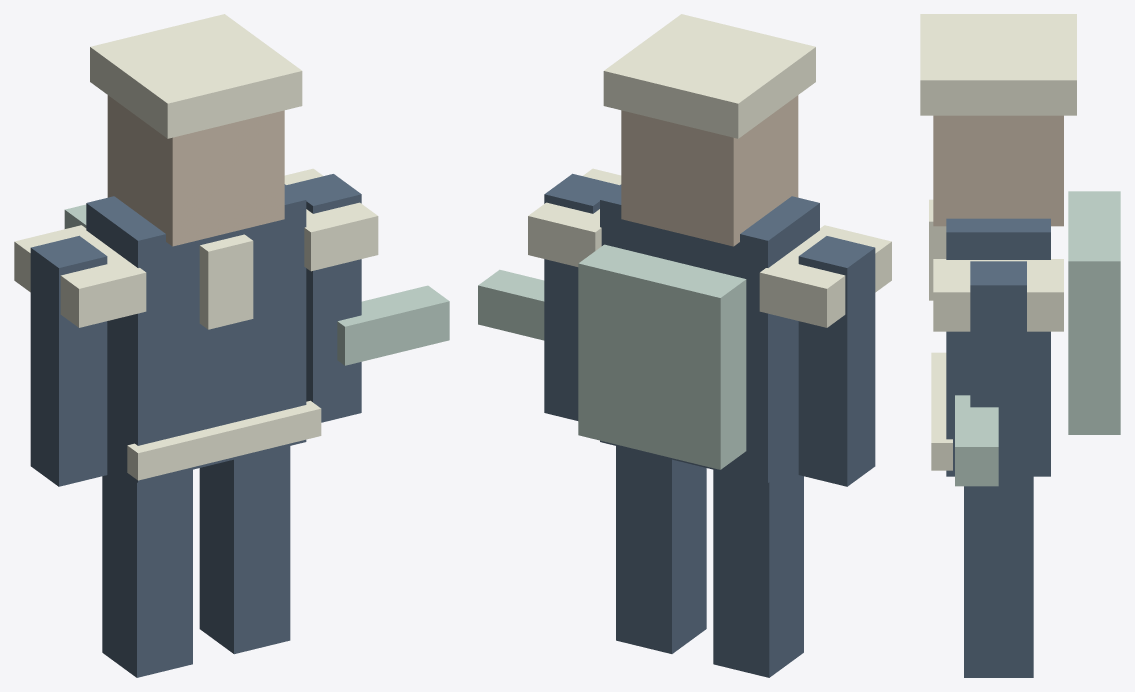
The model's file is 14_sable_latchward_engineer_at_surface.glb.
3 renders of one model, left to right at view 1: azimuth 30°, elevation 25°; view 2: azimuth 150°, elevation 25°; view 3: azimuth 270°, elevation 25°, orthographic.
Parts seen in each view (by area): view 1: Sable Latchward, Engineer at Surface; view 2: Sable Latchward, Engineer at Surface; view 3: Sable Latchward, Engineer at Surface.
Part boxes in pixels (x1,y1,x2,y2): Sable Latchward, Engineer at Surface: [14, 14, 449, 677]; Sable Latchward, Engineer at Surface: [478, 14, 891, 677]; Sable Latchward, Engineer at Surface: [920, 14, 1120, 677].
Size of the model in its own units: 1.06 by 1.56 by 0.4767.
